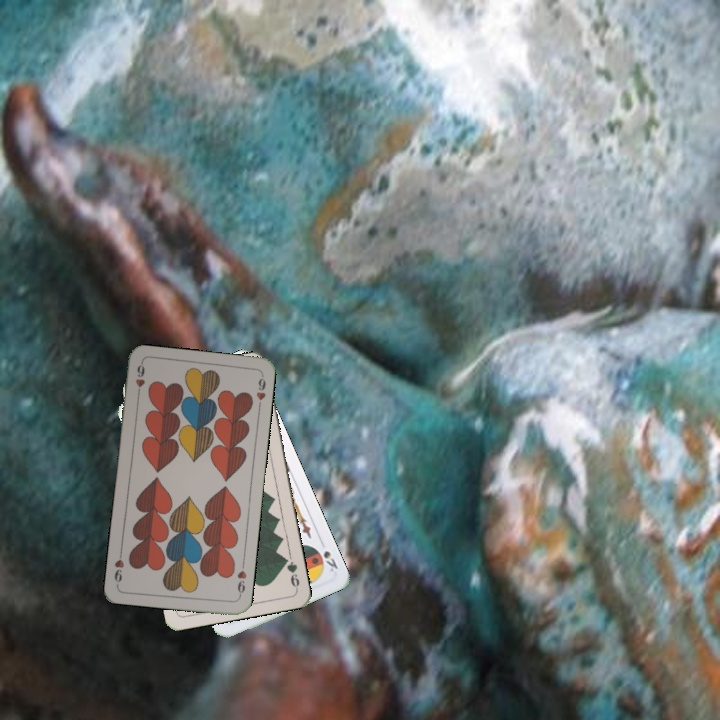G9: (279, 553, 302, 592)
H9: (131, 359, 148, 400), (233, 559, 249, 600)
SK: (319, 546, 340, 574)
